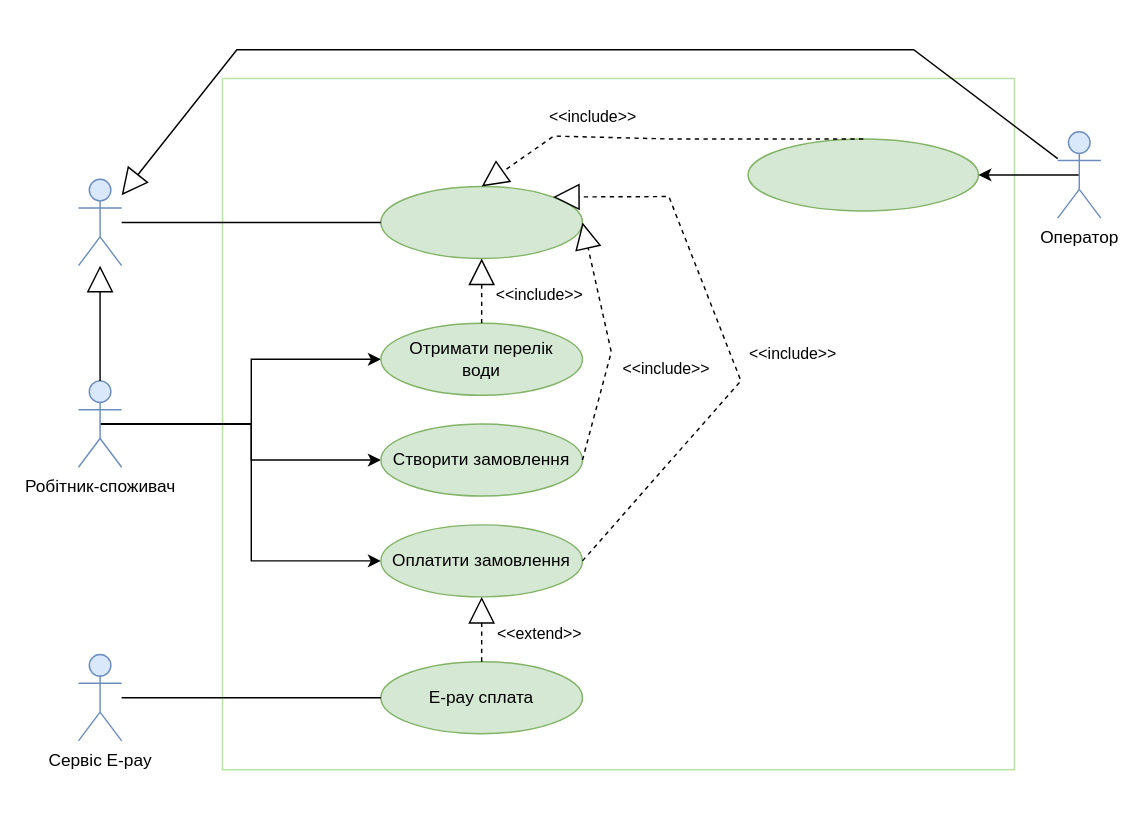
This 1142x818 diagram has some shape labels left out. The shapes that lost their labels are listed below. From the top down, each one's box as (x1, y1, x2, y2) in pixels, then its label:
(747, 138, 978, 211): Сповістити про успішність купівлі води
(77, 178, 122, 266): Користувач
(379, 185, 582, 258): Авторизувати користувача
